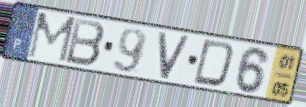6: (235, 45, 270, 95)
9: (111, 27, 151, 74)
B: (63, 16, 107, 68)
D: (191, 38, 237, 90)
M: (25, 11, 79, 65)
V: (157, 30, 192, 82)
